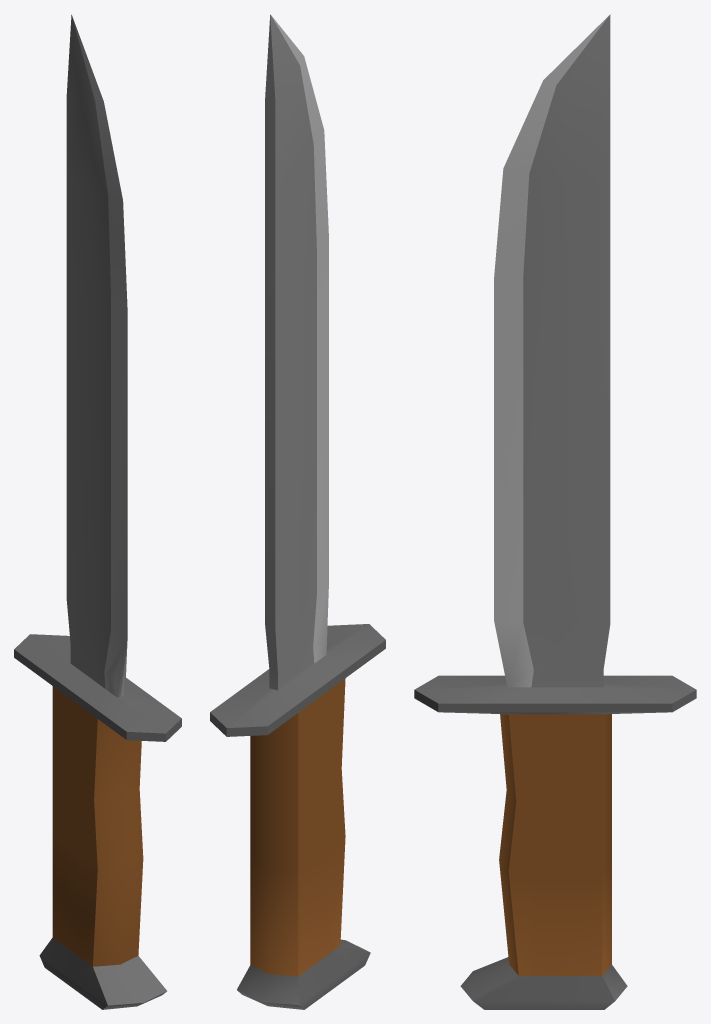
The model's file is Cuchillo.fbx.
3 renders of one model, left to right at view 1: azimuth 30°, elevation 25°; view 2: azimuth 150°, elevation 25°; view 3: azimuth 270°, elevation 25°, orthographic. The views are drawn at different scales.
Parts seen in each view (by area): view 1: knive_1; view 2: knive_1; view 3: knive_1.
Part boxes in pixels (x1,y1,x2,y2): knive_1: [14, 14, 181, 1009]; knive_1: [210, 14, 385, 1009]; knive_1: [414, 14, 696, 1009].
Size of the model in its own units: 9.35 by 142 by 36.95.
Materials: 1 (1 with a texture image).
